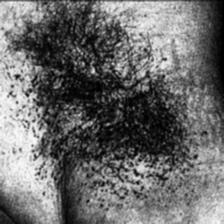Unclassified: (4, 0, 98, 185), (123, 11, 191, 186)
